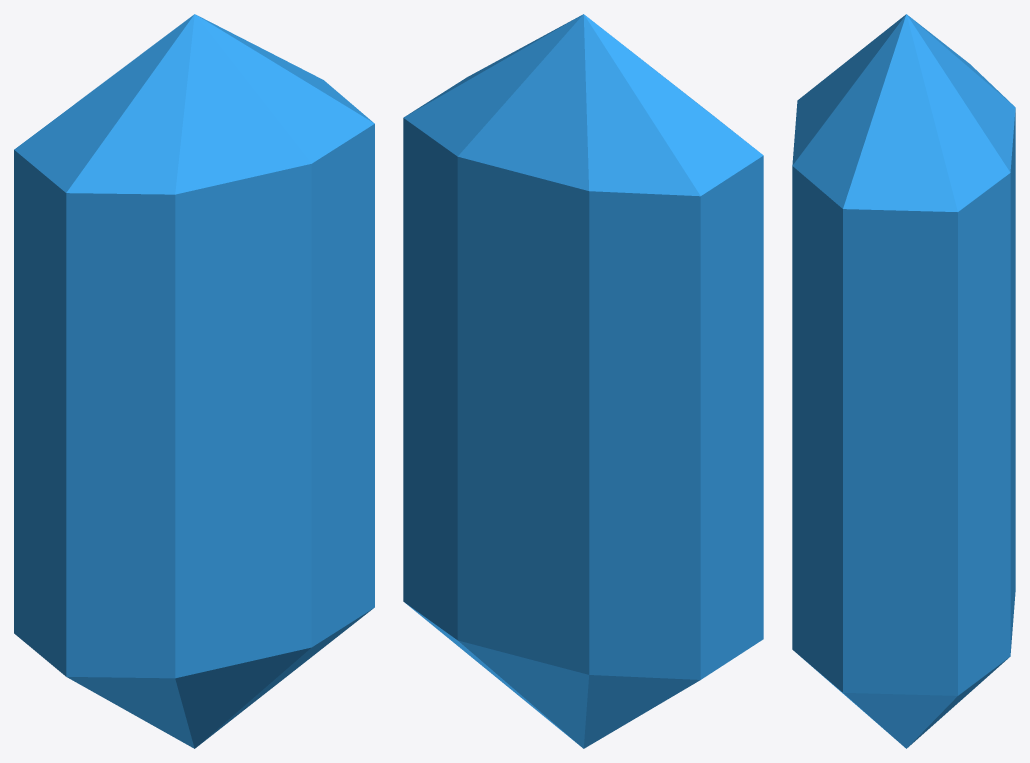
The model's file is ice_crystal.glb.
3 renders of one model, left to right at view 1: azimuth 30°, elevation 25°; view 2: azimuth 150°, elevation 25°; view 3: azimuth 270°, elevation 25°, orthographic.
Visible parts, largest first — view 1: PP_Crystal_01_Blue; view 2: PP_Crystal_01_Blue; view 3: PP_Crystal_01_Blue.
Part boxes in pixels (x1=…): PP_Crystal_01_Blue: x1=14, y1=14, x2=374, y2=748; PP_Crystal_01_Blue: x1=403, y1=14, x2=763, y2=748; PP_Crystal_01_Blue: x1=792, y1=14, x2=1015, y2=748.
Bounding box in the file's own units: 2.99 × 6.8 × 1.87.
1 material, 1 textured.
